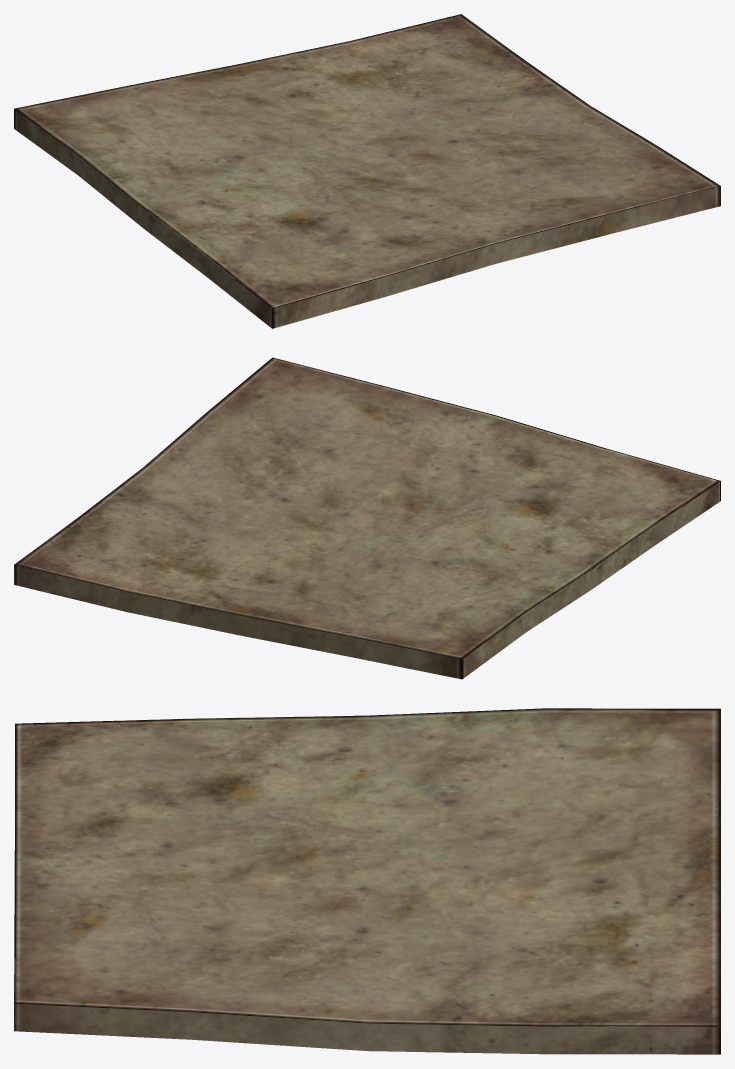
The model's file is pplant_ground_default_damaged04.dae.
3 renders of one model, top to bottom at view 1: azimuth 30°, elevation 25°; view 2: azimuth 150°, elevation 25°; view 3: azimuth 270°, elevation 25°, orthographic. The views are drawn at different scales.
Visible parts, largest first — view 1: ground_default_damaged04; view 2: ground_default_damaged04; view 3: ground_default_damaged04.
Boxes of the visible parts, x1=… form: ground_default_damaged04: x1=14, y1=14, x2=720, y2=328; ground_default_damaged04: x1=14, y1=357, x2=720, y2=679; ground_default_damaged04: x1=14, y1=708, x2=720, y2=1054.
Bounding box in the file's own units: 2 × 0.1647 × 2.
